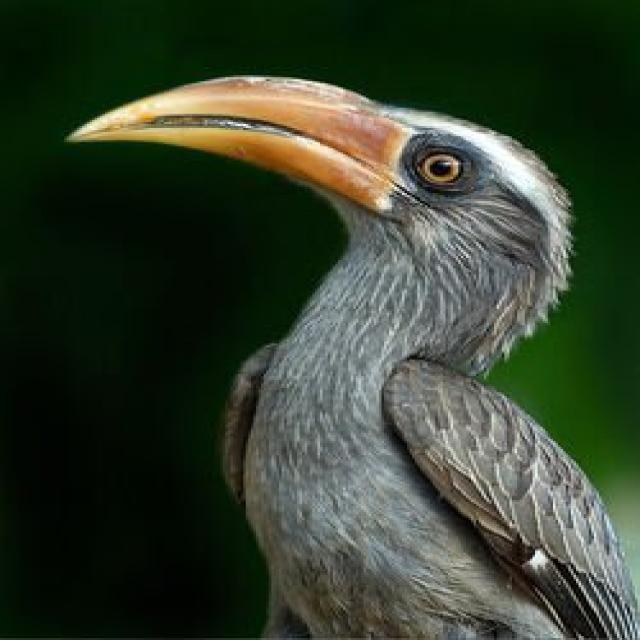Hornbill: (65, 60, 640, 640)
